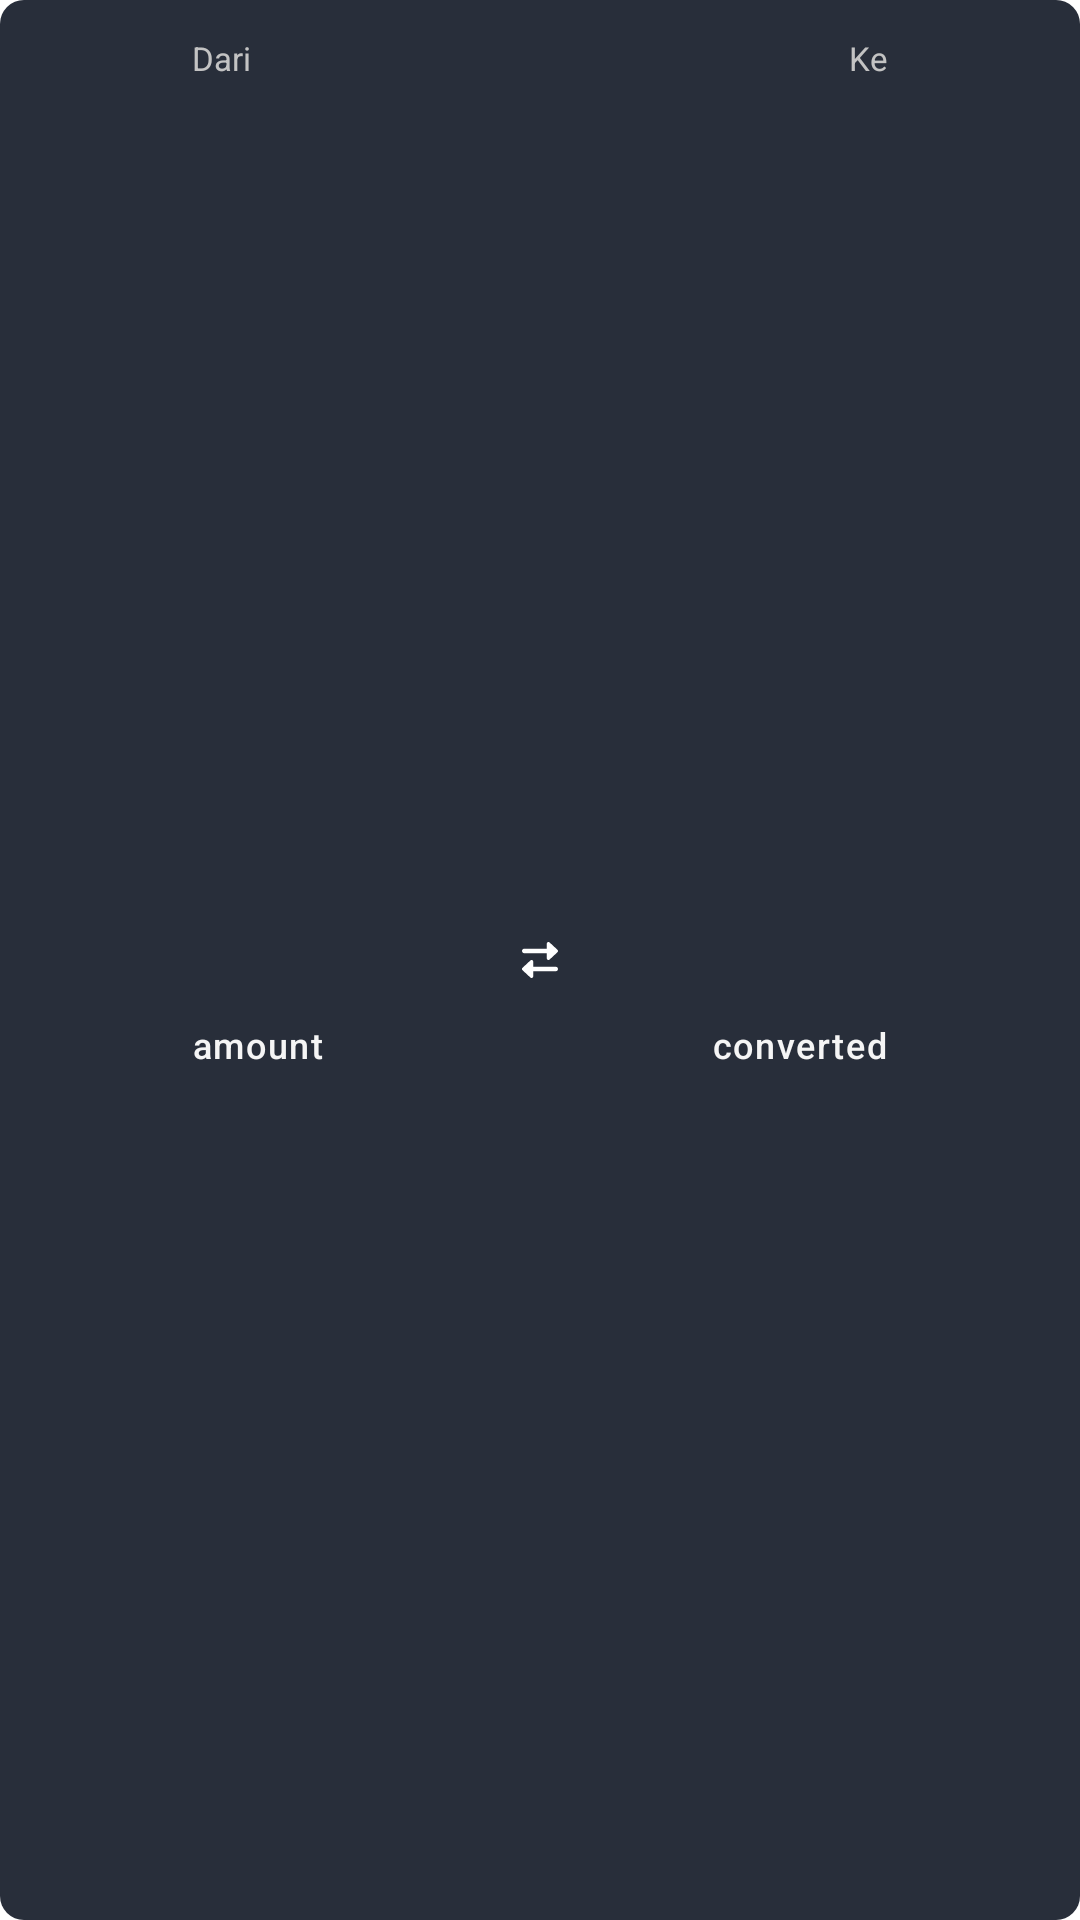

Icon click points for this 1080 x 1920 phone screenshot, format (x,y):
right left: (540,960)
